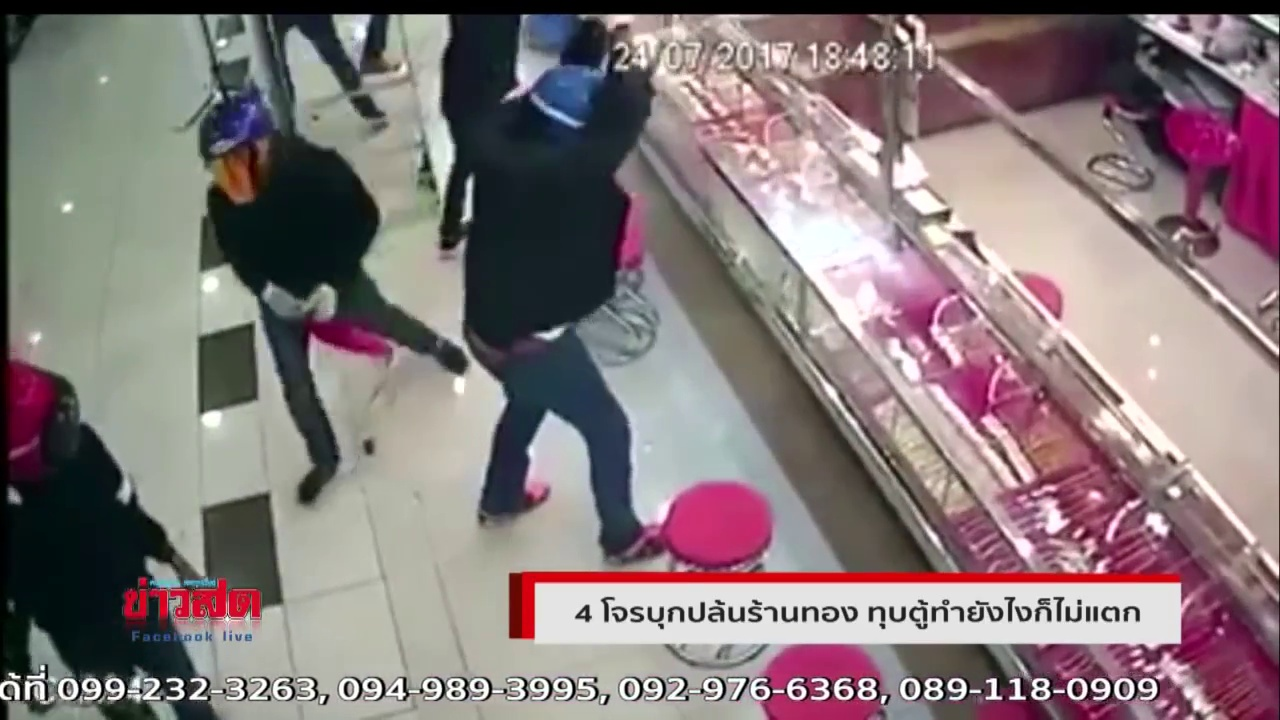helmet: (8, 349, 87, 479), (200, 93, 278, 210), (529, 54, 592, 136)
